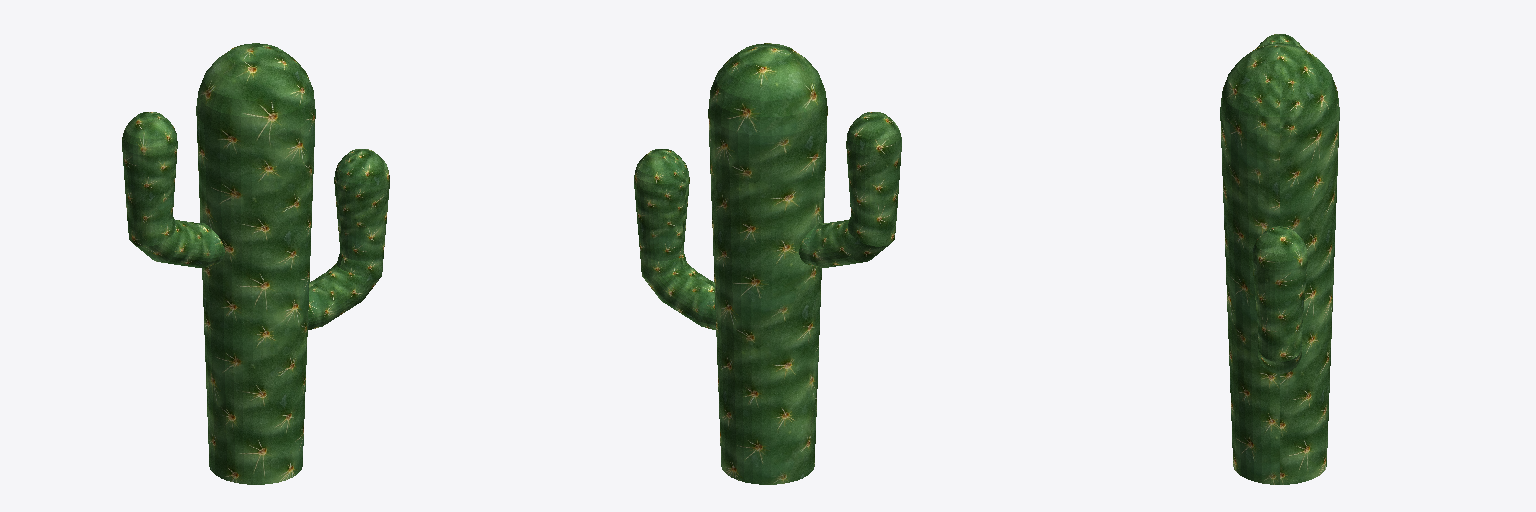
3 renders of one model, left to right at view 1: azimuth 30°, elevation 25°; view 2: azimuth 150°, elevation 25°; view 3: azimuth 270°, elevation 25°, orthographic.
Visible parts, largest first — view 1: Kaktus-main_Cylinder, kaktus-secondarm_Cylinder.001, kaktus-firstarm_Cylinder.002; view 2: Kaktus-main_Cylinder, kaktus-secondarm_Cylinder.001, kaktus-firstarm_Cylinder.002; view 3: Kaktus-main_Cylinder, kaktus-firstarm_Cylinder.002.
Boxes of the visible parts, box(x1,y1,x2,y2) form: Kaktus-main_Cylinder: box(196, 43, 315, 484); kaktus-secondarm_Cylinder.001: box(122, 112, 224, 267); kaktus-firstarm_Cylinder.002: box(308, 149, 389, 329); Kaktus-main_Cylinder: box(708, 43, 827, 484); kaktus-secondarm_Cylinder.001: box(799, 112, 901, 267); kaktus-firstarm_Cylinder.002: box(634, 149, 715, 329); Kaktus-main_Cylinder: box(1220, 43, 1339, 484); kaktus-firstarm_Cylinder.002: box(1252, 226, 1307, 373).
Size of the model in its own units: 2.3 by 3.53 by 0.9154.
1 materials, 1 textured.